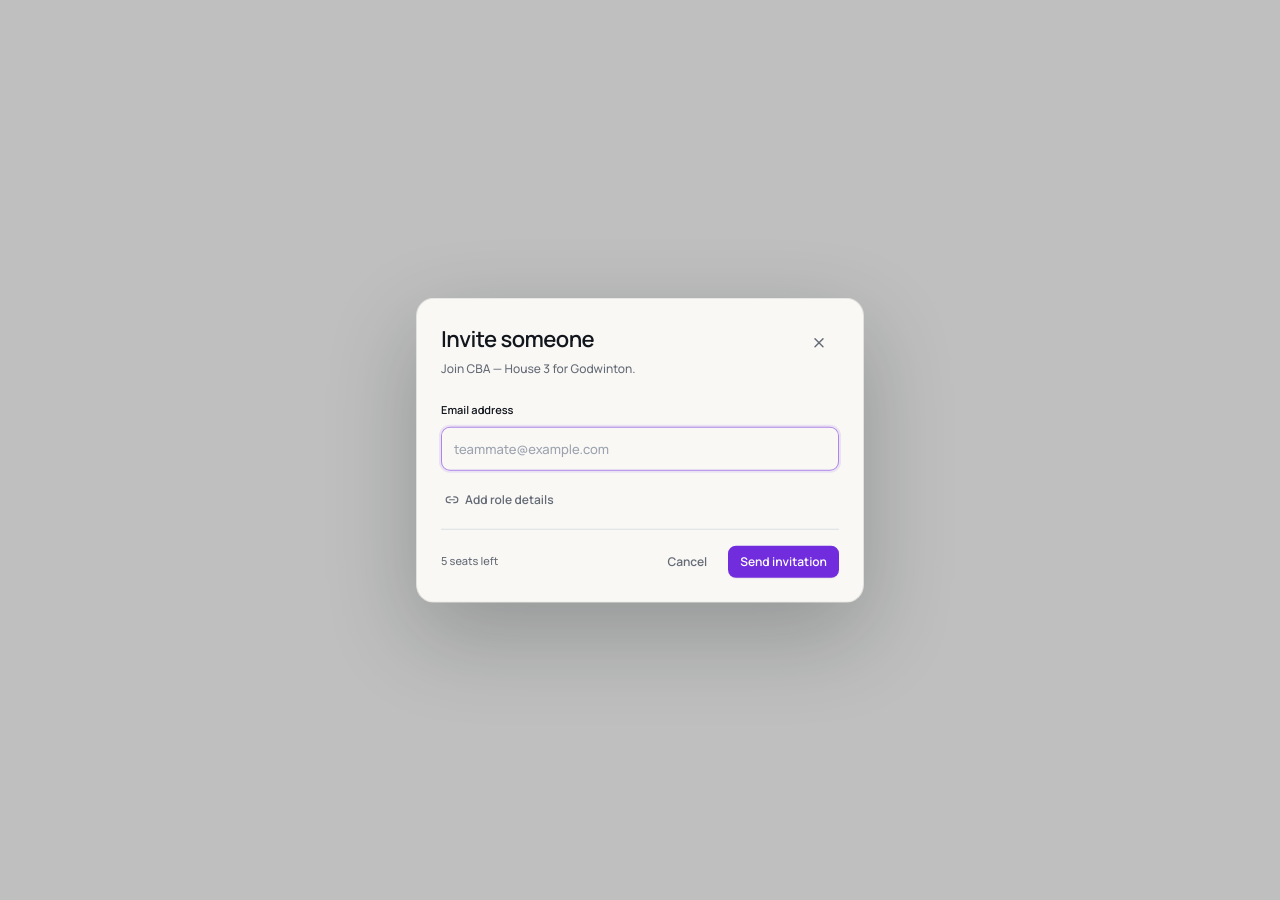
Test case: TeamInviteDialog › submits the email and optional role details, then makes failed delivery recoverable
The image size is (1280, 900).
Type "manager@example.com" into the field labelled "Email address" at (640, 448), box [441,426,839,470]
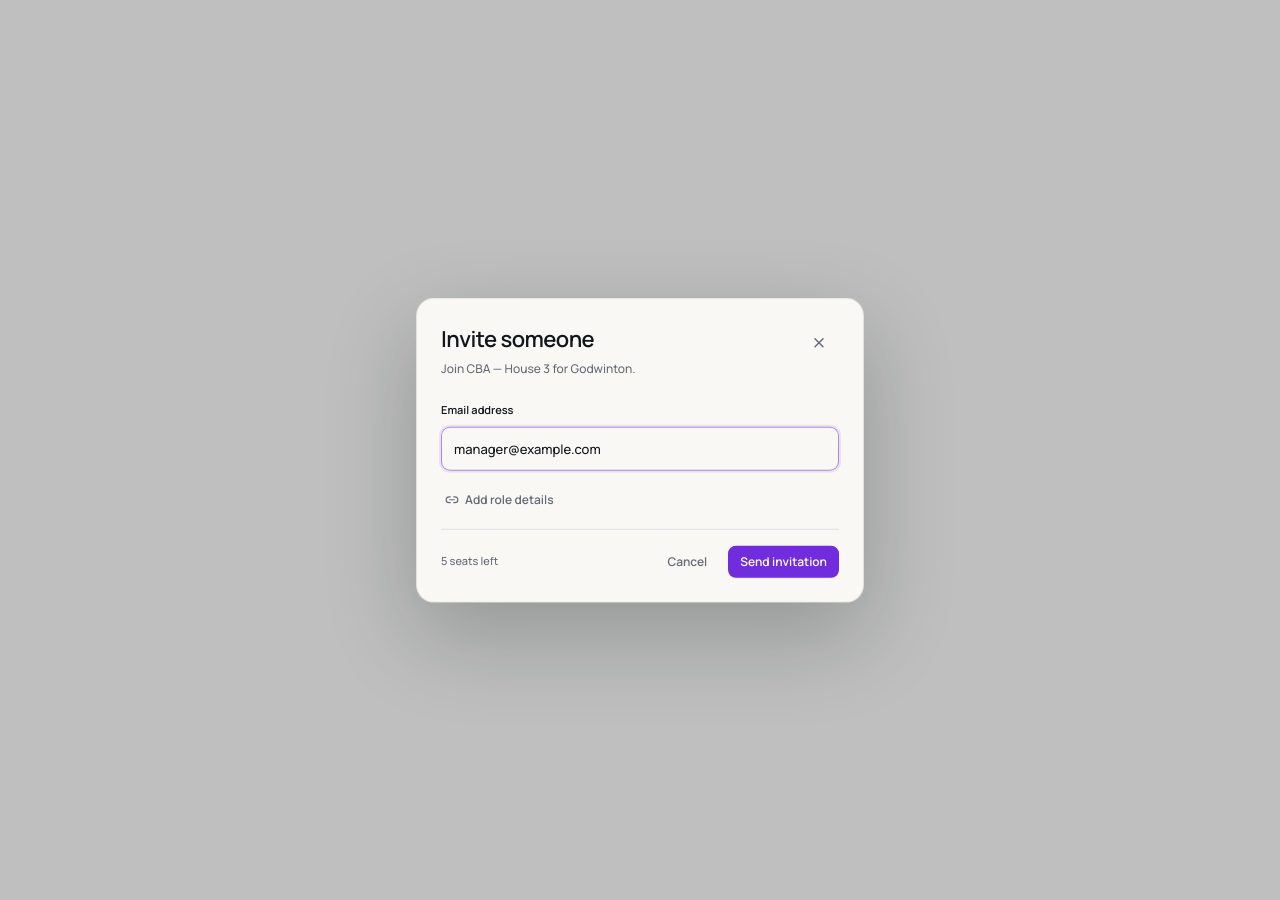
Click the button "Send invitation" at (784, 561), box [728,545,839,577]
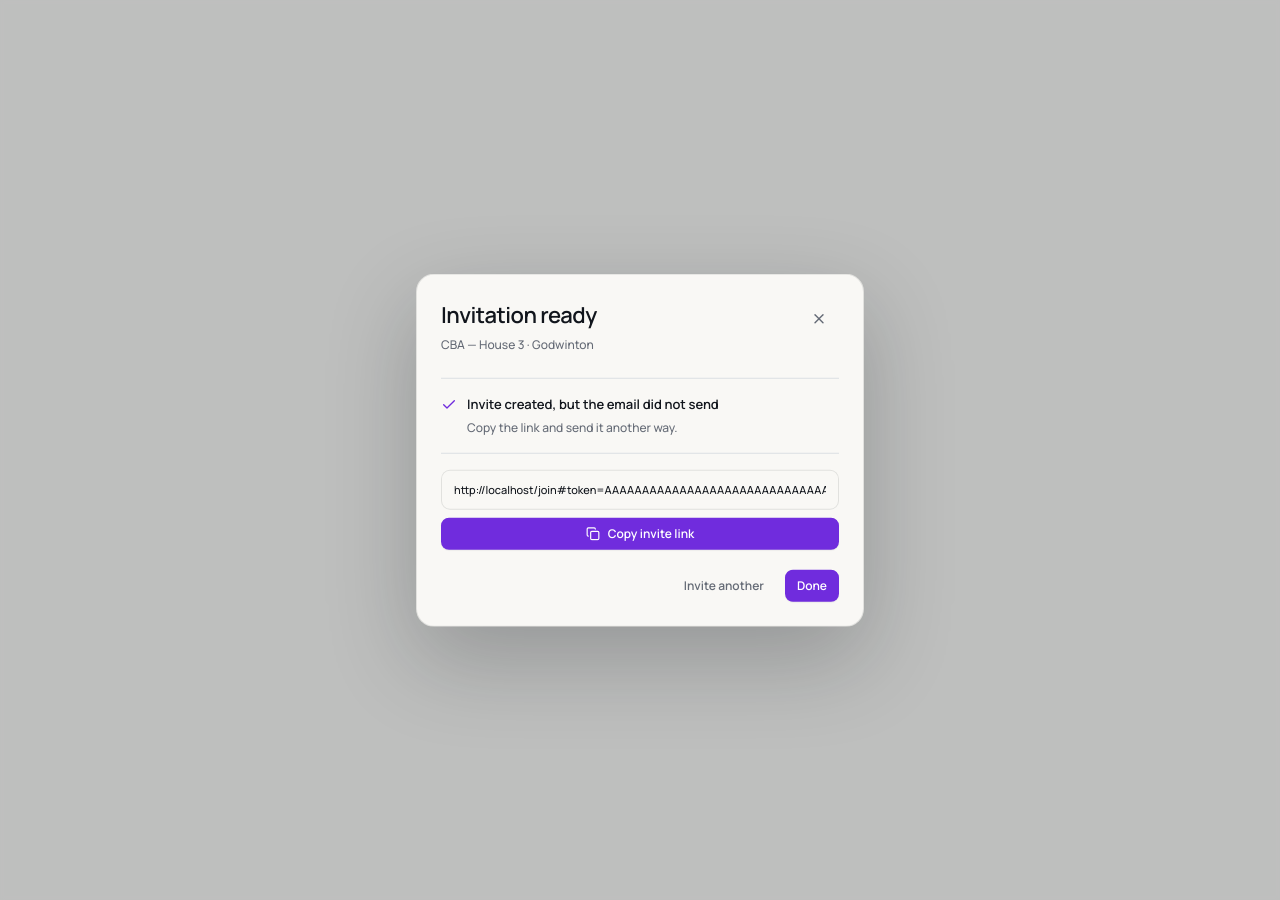
Check: the text "Invite created, but the email did not send" is shown, box [467,395,719,414]
Check: the button "Copy invite link" is shown, box [441,517,839,549]
Check: the button "Done" is shown, box [785,569,839,601]
